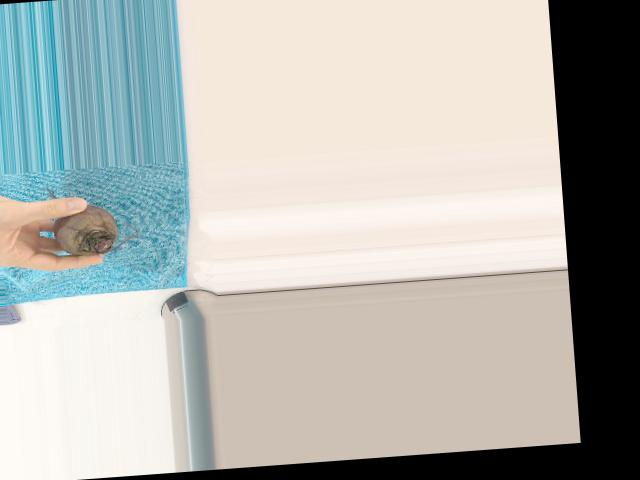beet: (46, 180, 139, 257)
